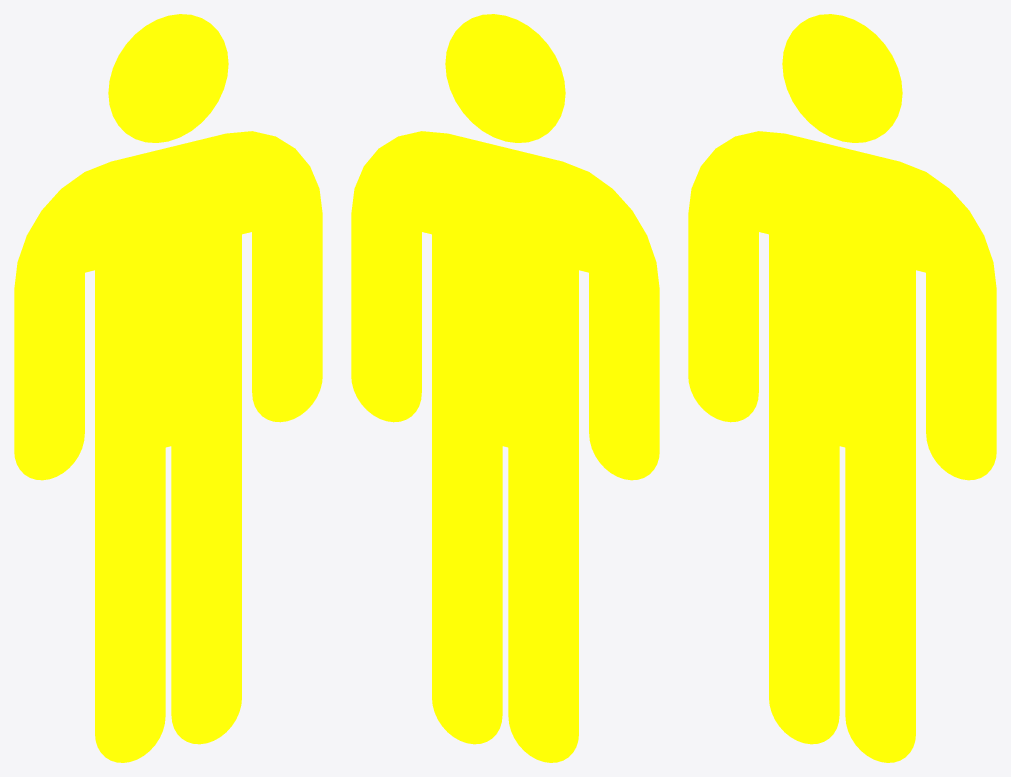
File: mdl_zesty_condo_screen_man.gltf
The picture shows the model from 3 angles, left to right: view 1: azimuth 30°, elevation 25°; view 2: azimuth 150°, elevation 25°; view 3: azimuth 330°, elevation 25°; orthographic projection.
Parts seen in each view (by area): view 1: mdl_zesty_condo_screen_man; view 2: mdl_zesty_condo_screen_man; view 3: mdl_zesty_condo_screen_man.
Part boxes in pixels (x1,y1,x2,y2): mdl_zesty_condo_screen_man: [14, 14, 322, 762]; mdl_zesty_condo_screen_man: [351, 14, 659, 762]; mdl_zesty_condo_screen_man: [688, 14, 996, 762].
Size of the model in its own units: 0.1082 by 0.2468 by 0.
